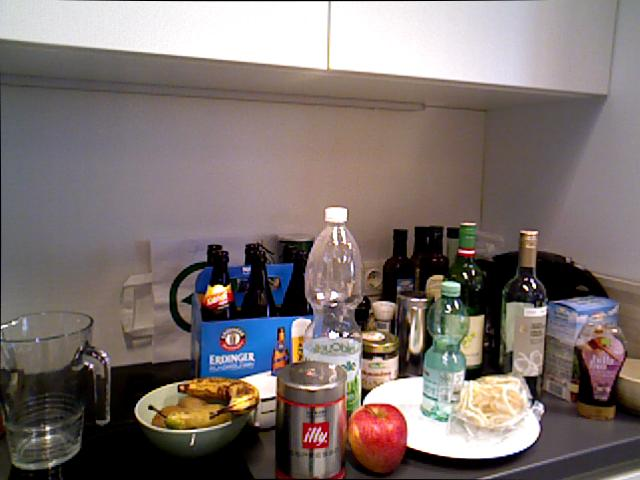bench: (307, 204, 364, 416), (499, 229, 548, 401), (420, 280, 469, 422), (447, 221, 486, 379), (201, 249, 236, 321), (384, 228, 412, 299), (247, 253, 274, 317), (288, 252, 308, 316), (427, 226, 443, 286), (271, 326, 289, 376), (413, 226, 426, 291)
bicycle: (347, 403, 407, 474)
bird: (133, 378, 257, 457)
handbag: (0, 310, 111, 470)
motorcycle: (175, 378, 256, 414)
